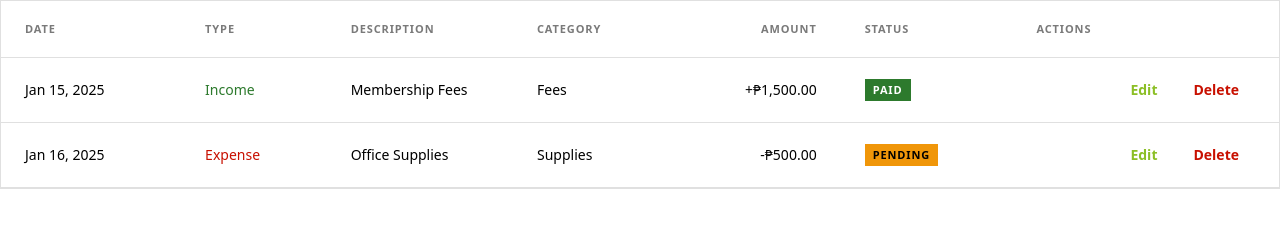
EntryTable Component › renders error message when delete action fails
Note: Trigger delete confirmation
What coordinates should you click on to do the following:
click the button with test id "delete-btn-b1"
I would click on:
 (1216, 90)
Its box is [1178,66,1255,114].
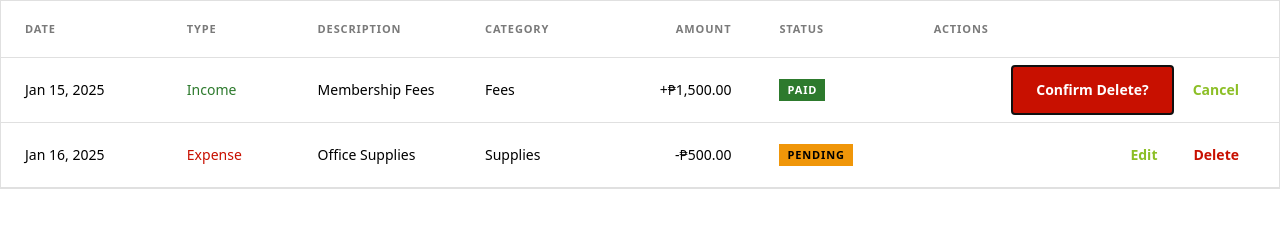
What coordinates should you click on to do the following:
click the button with test id "confirm-delete-b1"
I would click on:
 (1092, 90)
Its box is [1012,66,1173,114].
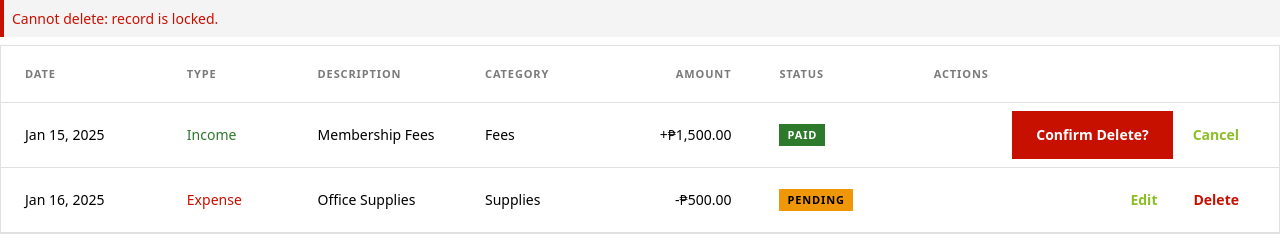
expect the message with test id "table-error-message" reads "Cannot delete: record is locked.": met, box [12,9,218,28]
